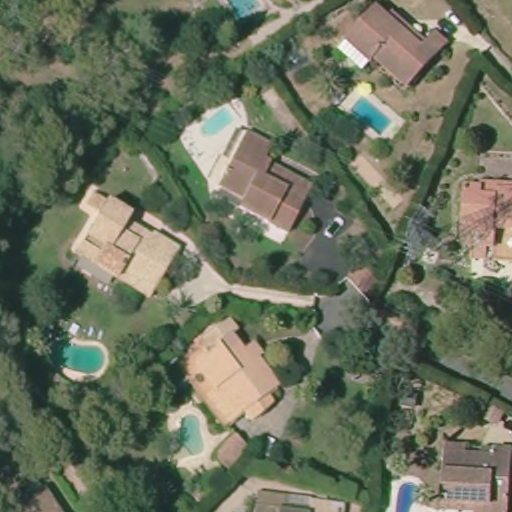pool: (36, 331, 114, 383), (342, 89, 403, 138), (163, 407, 214, 465), (192, 103, 246, 140), (389, 473, 431, 512), (219, 1, 275, 23)
